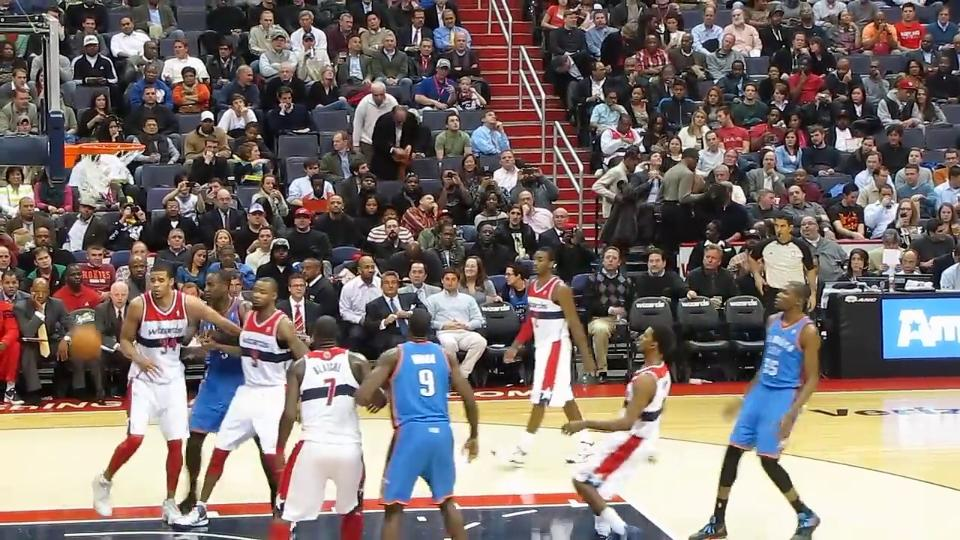hoop: (59, 138, 145, 162)
